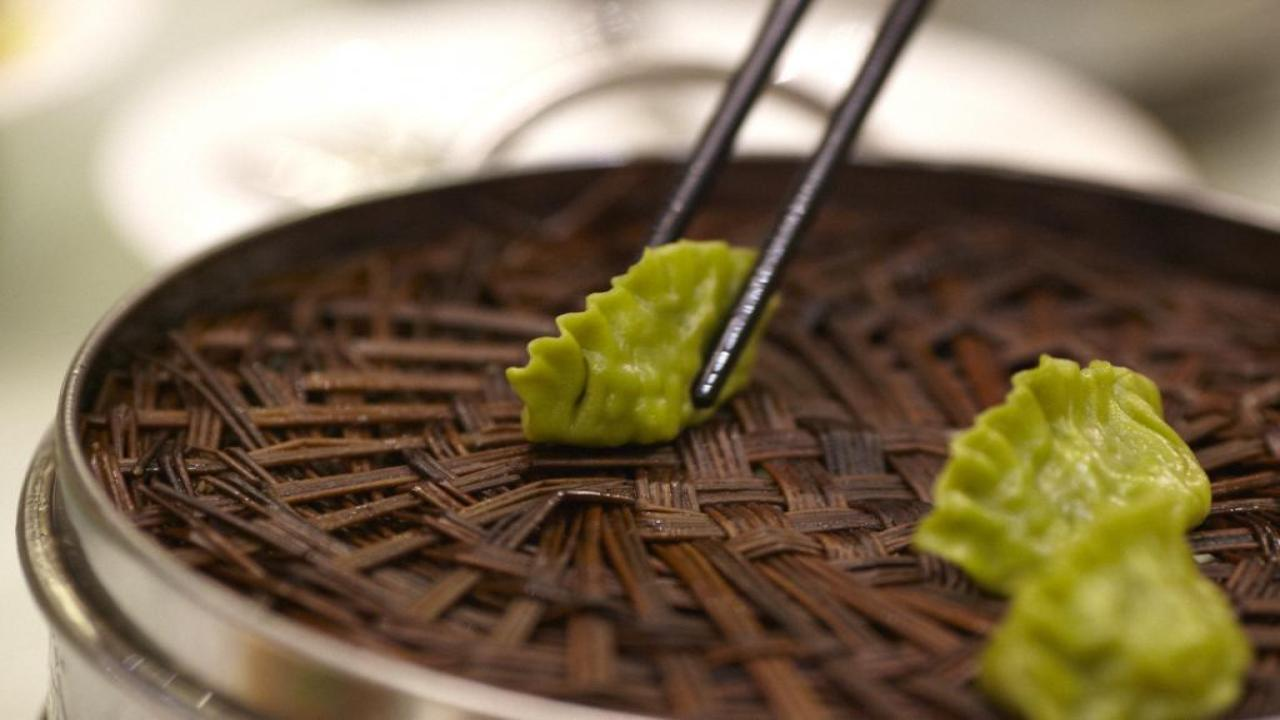chopstick: (647, 1, 936, 404)
